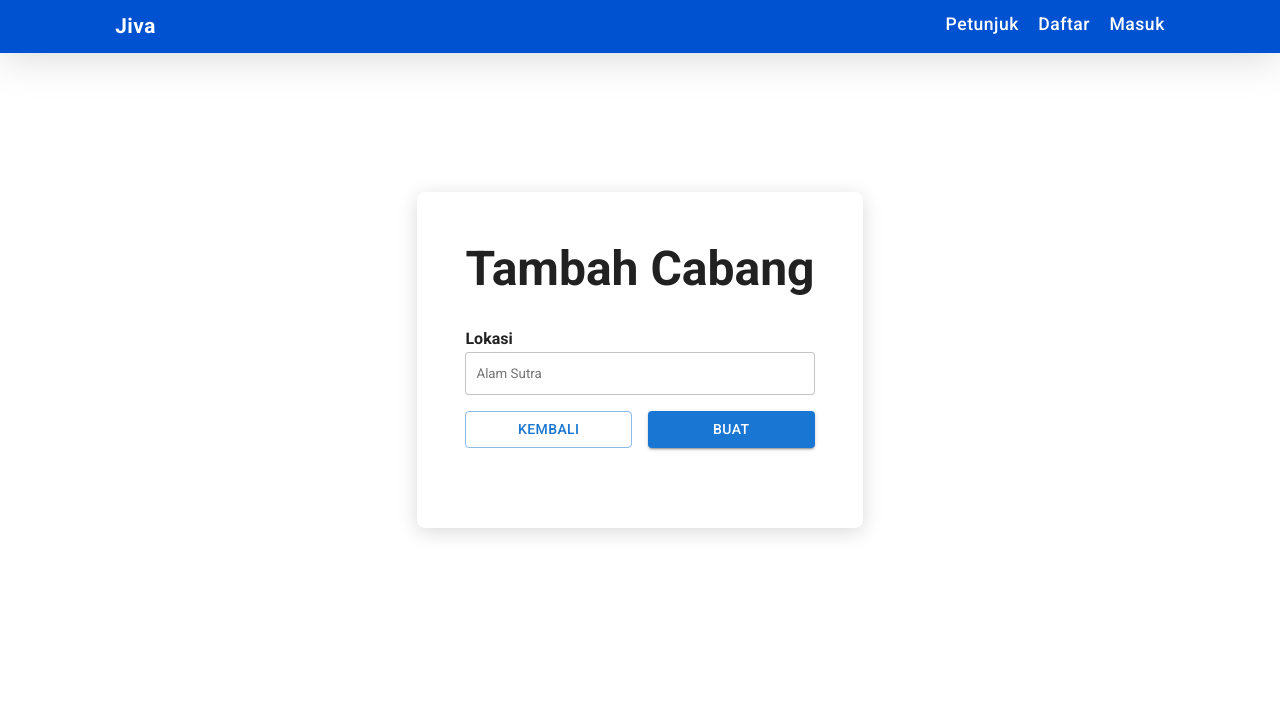
Test case: <Klinik/> › shows error correctly
Click the button "Buat".
click(731, 429)  # box [648,411,814,448]
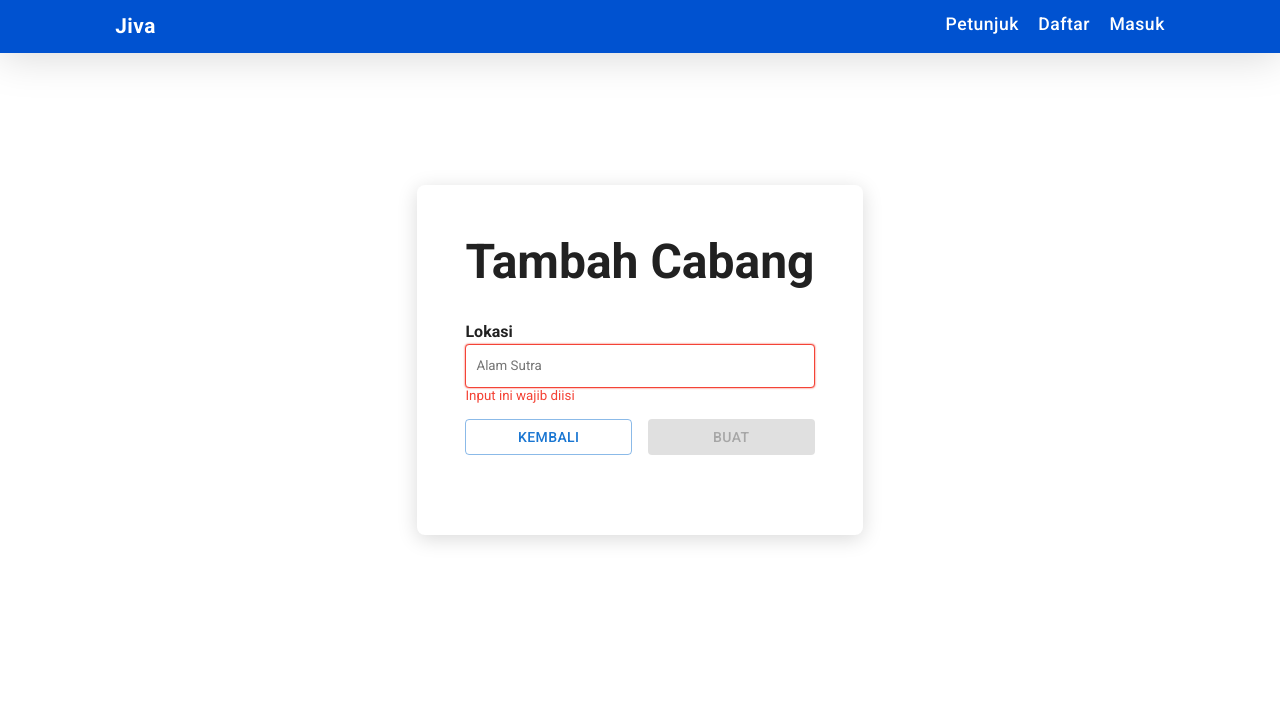
Expected: the text "Input ini wajib diisi" is shown, [465,388,575,403]
